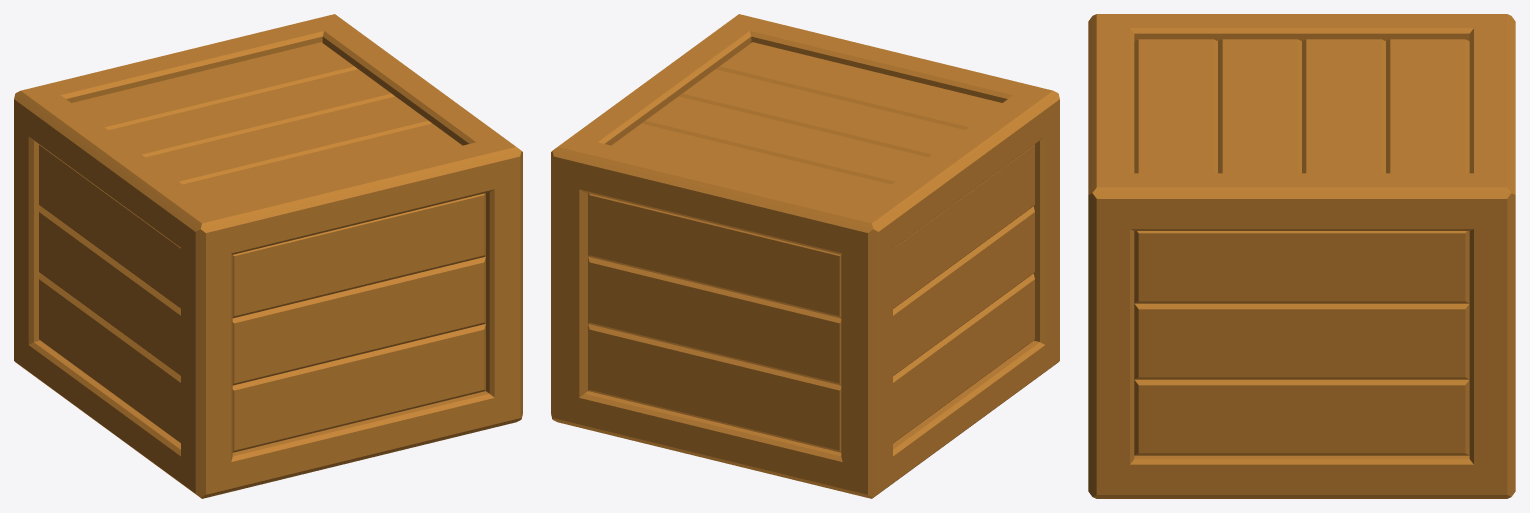
Rendered from crate.glb.
The picture shows the model from 3 angles, left to right: view 1: azimuth 30°, elevation 25°; view 2: azimuth 150°, elevation 25°; view 3: azimuth 270°, elevation 25°; orthographic projection. The views are drawn at different scales.
Visible parts, largest first — view 1: cratebox_a001.001; view 2: cratebox_a001.001; view 3: cratebox_a001.001.
Boxes of the visible parts, x1,y1,x2,y2 form: cratebox_a001.001: (14,14,522,498); cratebox_a001.001: (551,14,1059,498); cratebox_a001.001: (1088,14,1515,498).
Bounding box in the file's own units: 1.02 × 0.82 × 1.02.
